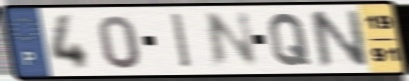0: (94, 11, 144, 71)
4: (47, 12, 95, 72)
I: (168, 11, 196, 71)
N: (305, 7, 372, 71), (203, 9, 261, 71)
Q: (267, 12, 313, 68)
